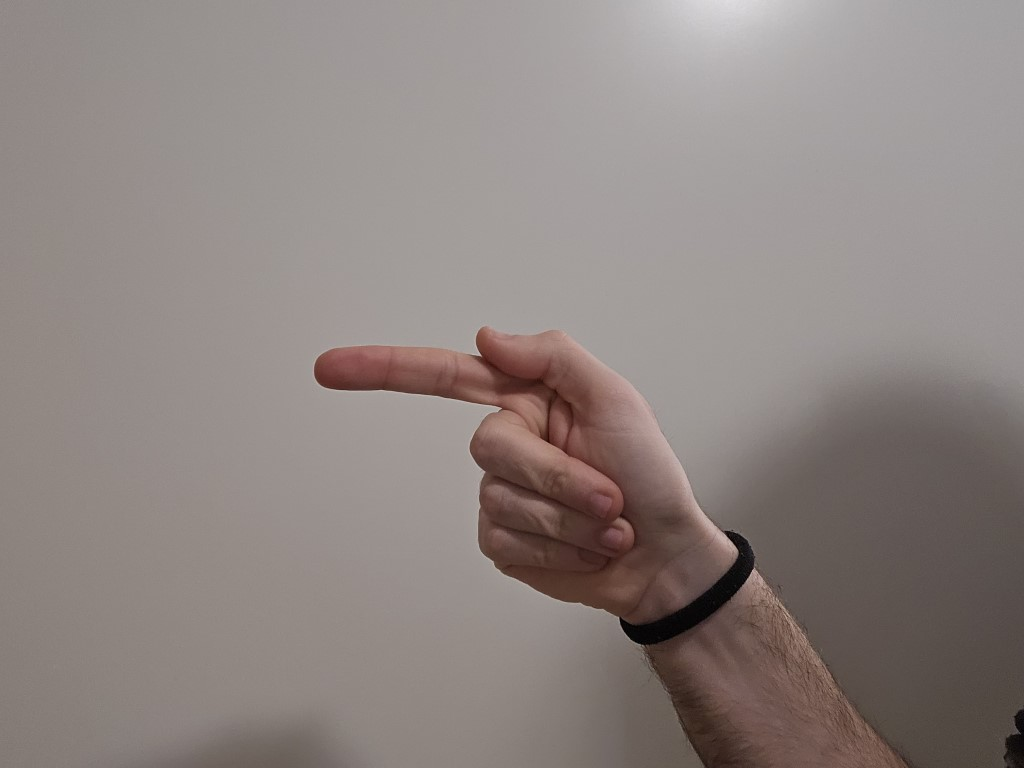g: (269, 287, 703, 619)
